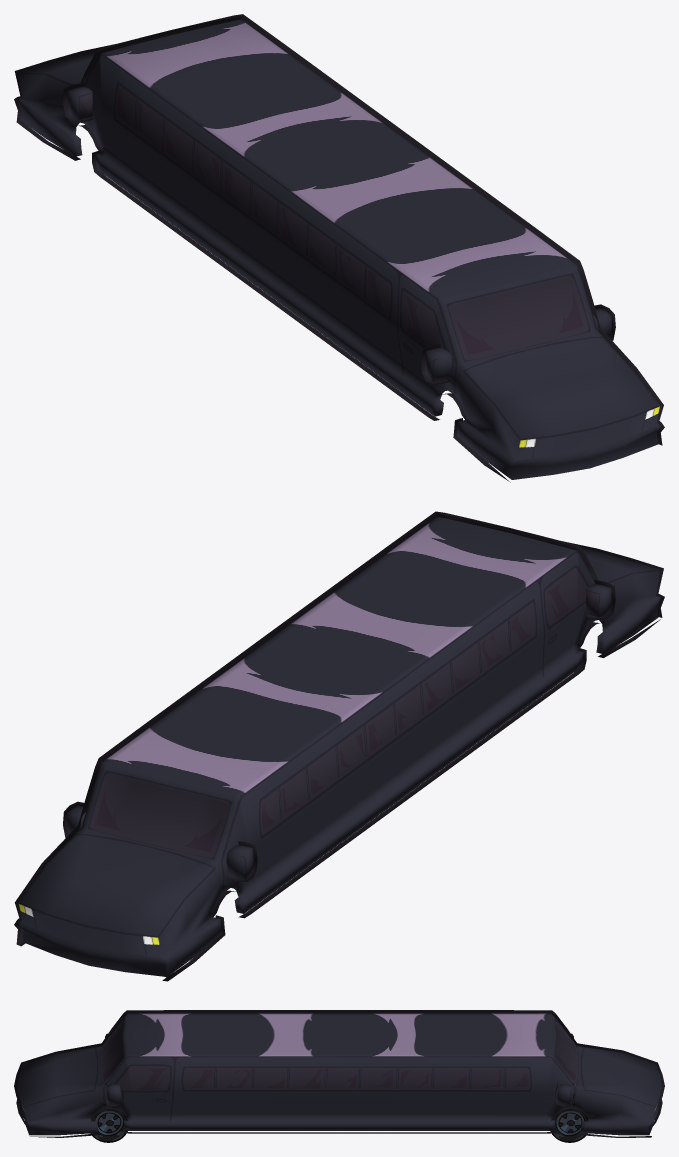
File: betterbetterbetterlimo.fbx
3 views of the same model, one above another, from view 1: azimuth 30°, elevation 25°; view 2: azimuth 150°, elevation 25°; view 3: azimuth 270°, elevation 25° (orthographic). The views are drawn at different scales.
Parts seen in each view (by area): view 1: Limo; view 2: Limo; view 3: Limo.
Part boxes in pixels (x1,y1,x2,y2): Limo: (14,14,664,482); Limo: (14,511,664,981); Limo: (14,1010,664,1142).
Bounding box in the file's own units: 177 × 130 × 847.
